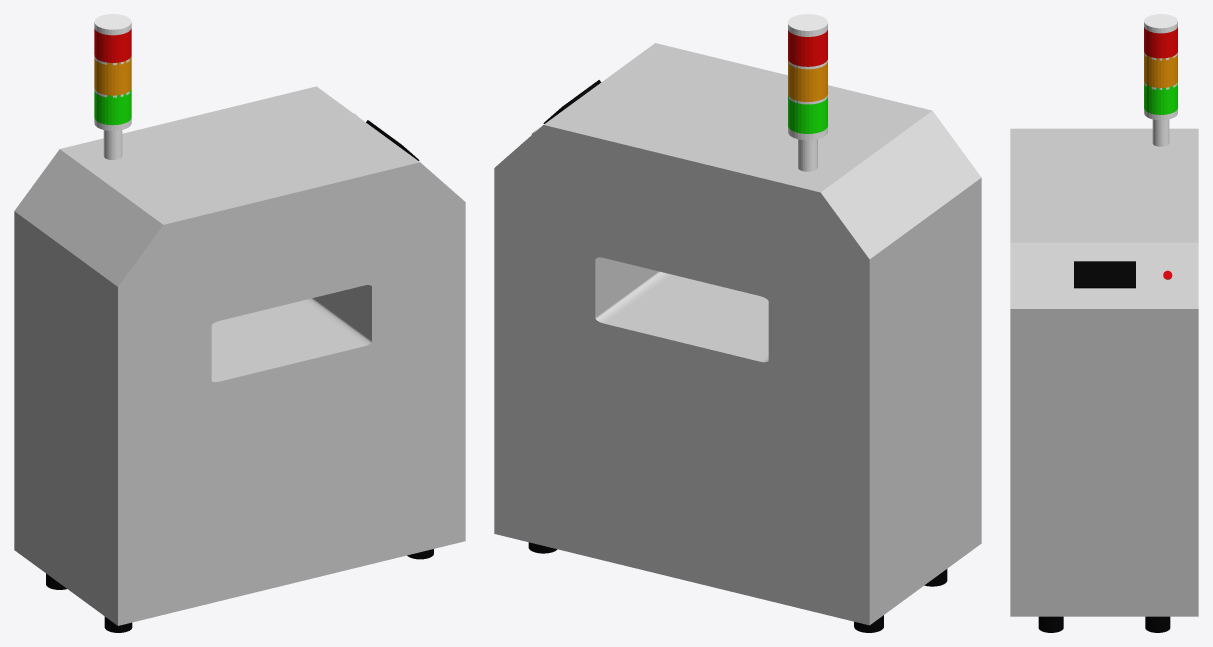
File: pcb-loader.glb
3 renders of one model, left to right at view 1: azimuth 30°, elevation 25°; view 2: azimuth 150°, elevation 25°; view 3: azimuth 270°, elevation 25°, orthographic. The views are drawn at different scales.
Visible parts, largest first — view 1: Body, Tower Lamp, Foot; view 2: Body, Tower Lamp, Foot; view 3: Body, Tower Lamp, Foot.
Boxes of the visible parts, x1=… form: Body: x1=14, y1=86, x2=465, y2=625; Tower Lamp: x1=94, y1=14, x2=131, y2=159; Foot: x1=46, y1=549, x2=433, y2=632; Body: x1=494, y1=43, x2=981, y2=625; Tower Lamp: x1=788, y1=14, x2=827, y2=171; Foot: x1=528, y1=542, x2=947, y2=632; Body: x1=1010, y1=128, x2=1198, y2=616; Tower Lamp: x1=1144, y1=14, x2=1177, y2=146; Foot: x1=1038, y1=616, x2=1170, y2=632.
Size of the model in its own units: 4.02 by 6.05 by 2.08.
